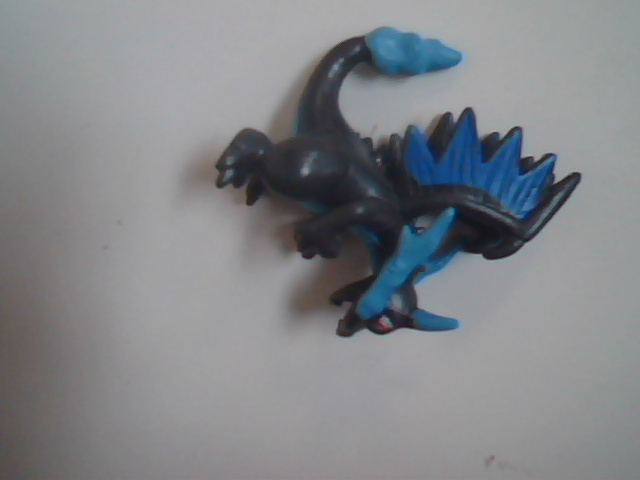charizard: (216, 20, 589, 388)
